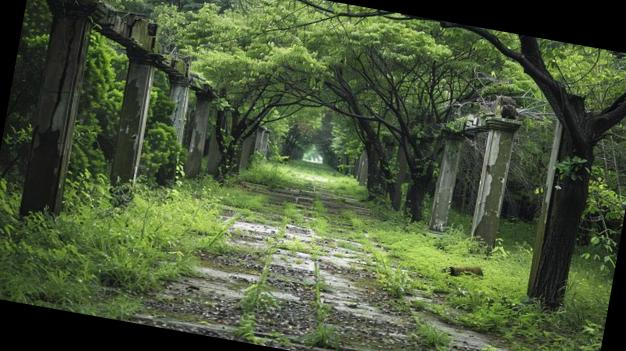overgrown grass: (0, 183, 225, 313), (368, 224, 531, 300), (275, 186, 374, 306), (222, 158, 383, 218), (233, 216, 303, 344), (369, 247, 450, 351), (566, 263, 609, 319), (305, 249, 330, 338)
